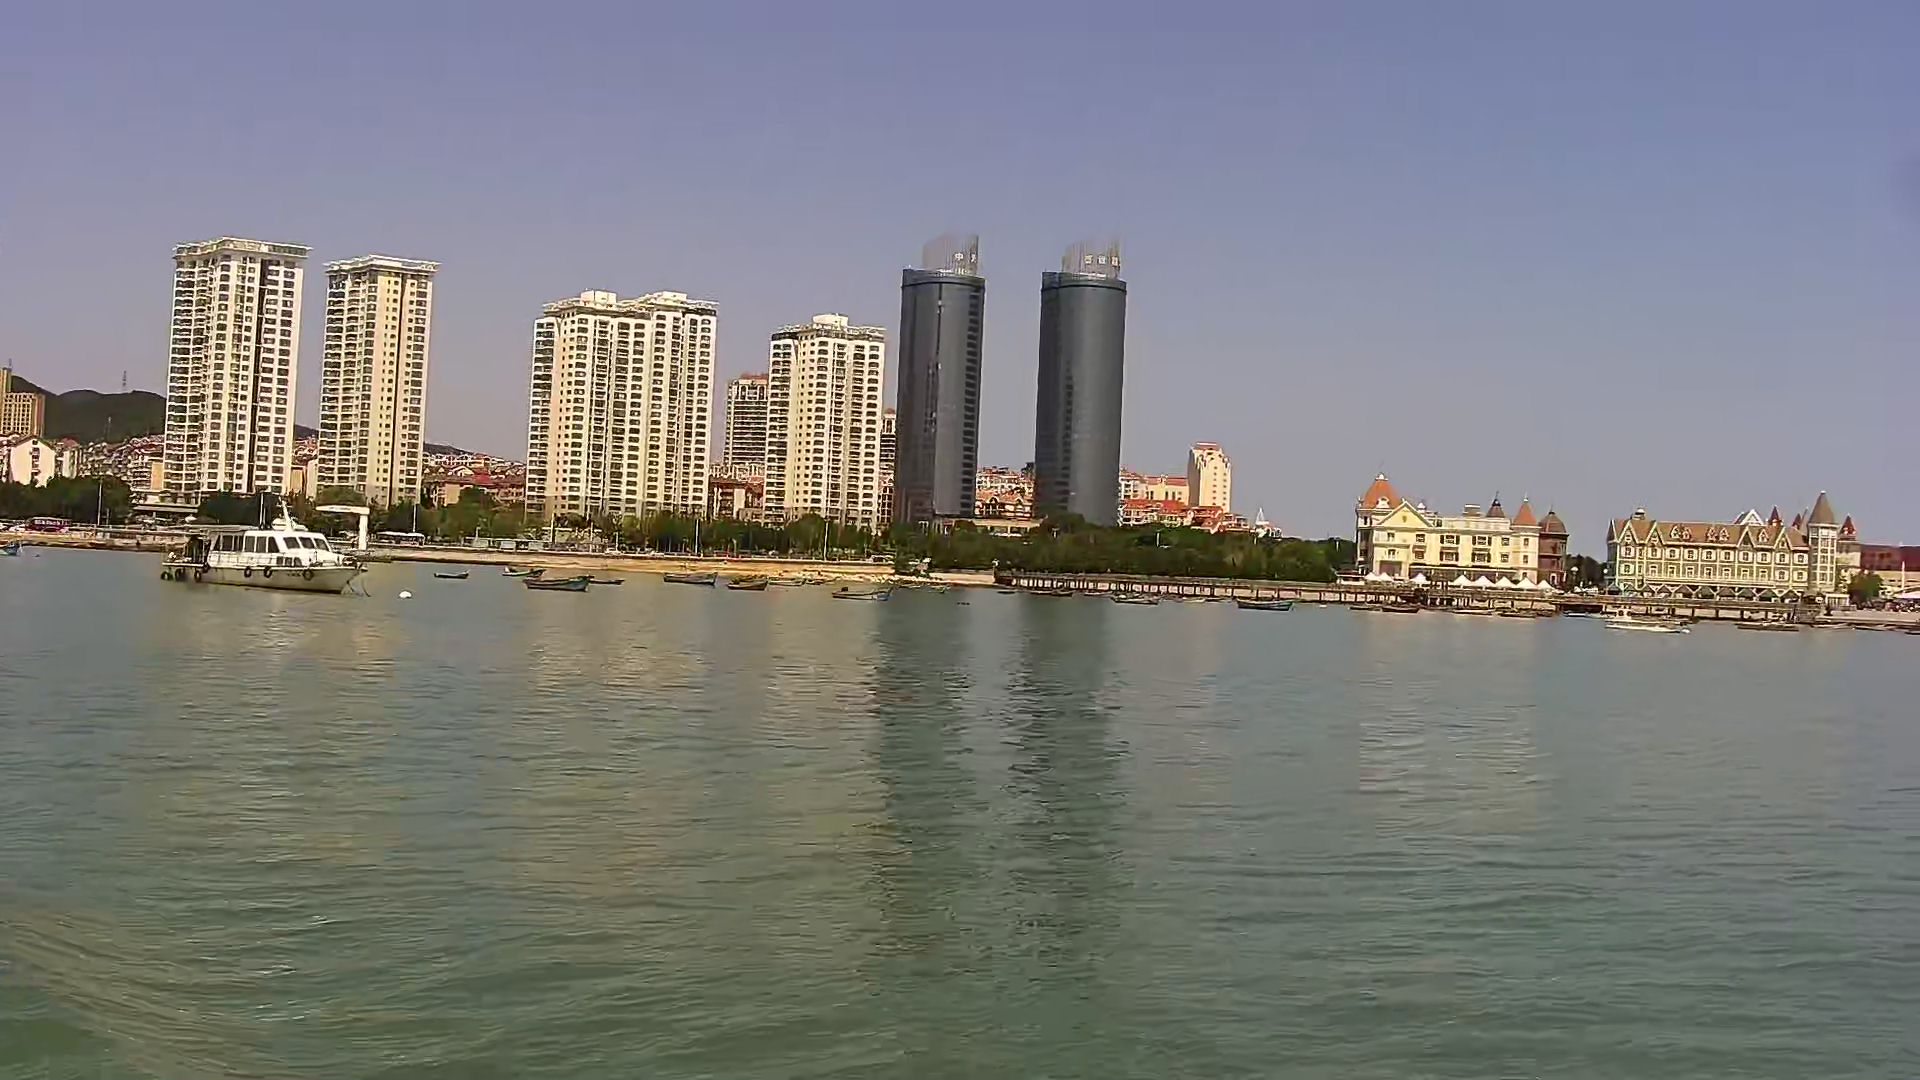boat: (1597, 597, 1696, 644), (502, 564, 599, 601), (1221, 589, 1300, 622), (822, 580, 895, 608), (655, 567, 719, 597), (723, 572, 777, 597), (429, 564, 475, 582)
ship: (158, 491, 375, 597)
